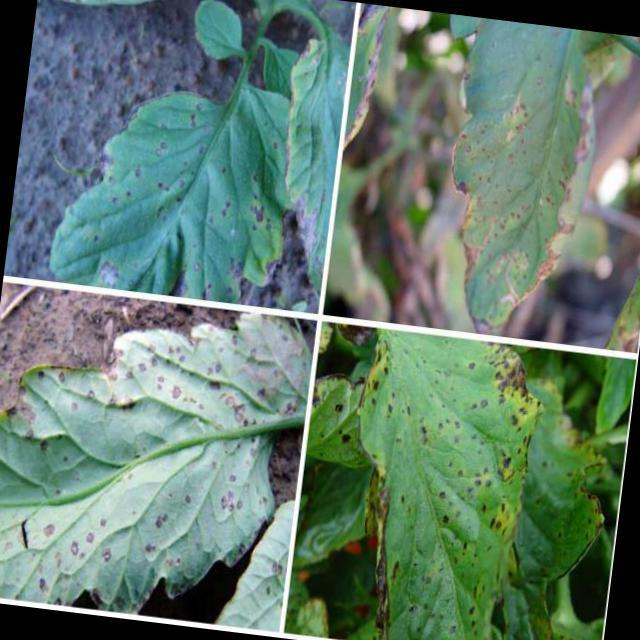Tomato leaf bacterial spot: (1, 288, 303, 626), (316, 322, 551, 640), (49, 13, 303, 303), (415, 27, 604, 343)
